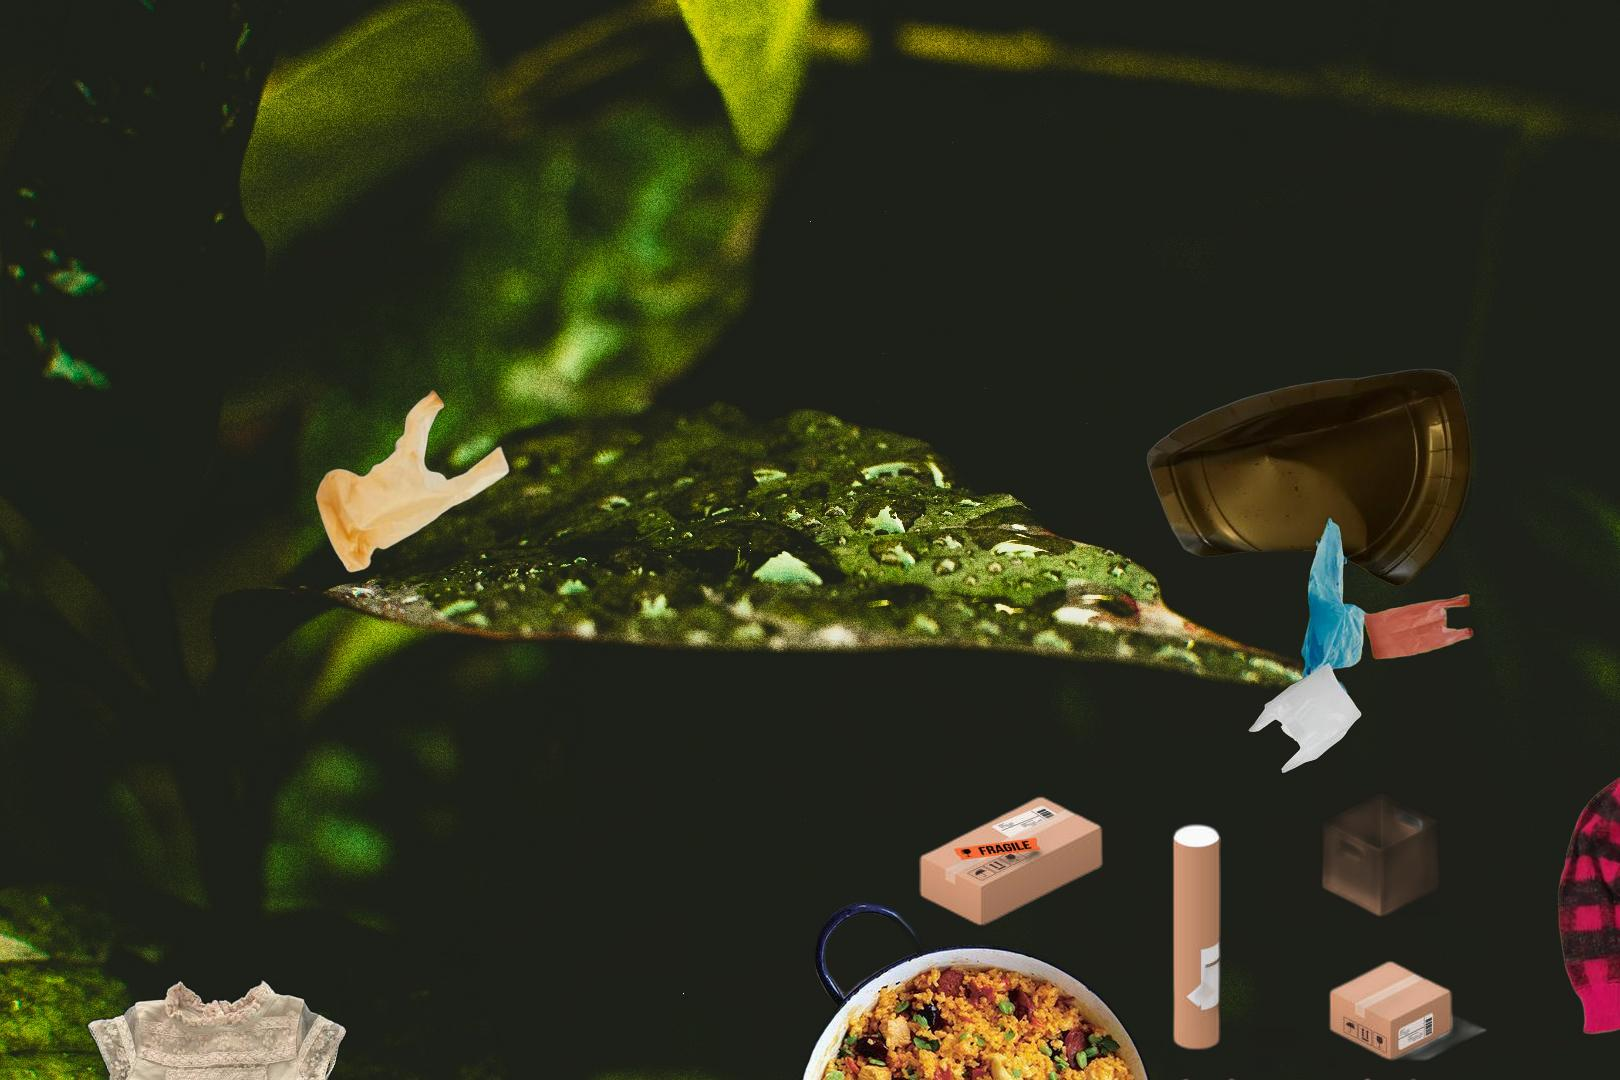biological: (790, 898, 1164, 1080)
clothes: (24, 974, 417, 1080), (1555, 739, 1620, 1080)
paper: (1141, 365, 1477, 589)
plastic-bag: (1248, 509, 1503, 777), (313, 387, 513, 576)
shoes: (975, 1079, 1217, 1080)
trashbox-cardboard: (914, 790, 1491, 1080)
